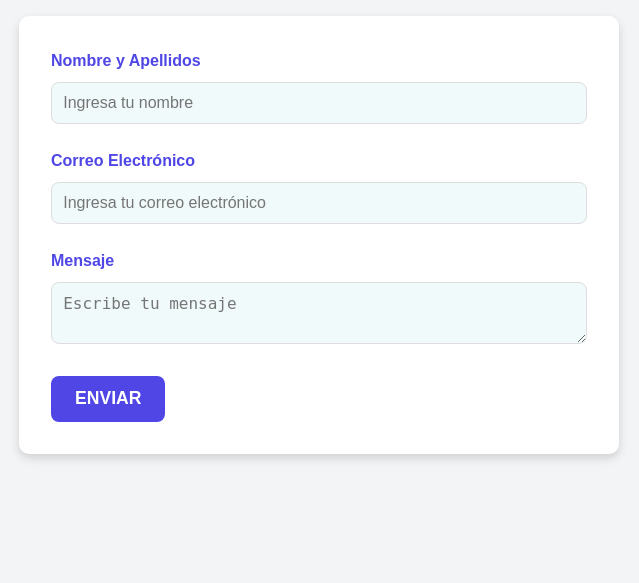
ContactForm Component › Mostrar errores de validación cuando los campos no son válidos
Step 1. Click the button "Enviar" → coordinates (108, 399), box x1=51 y1=376 x2=166 y2=422
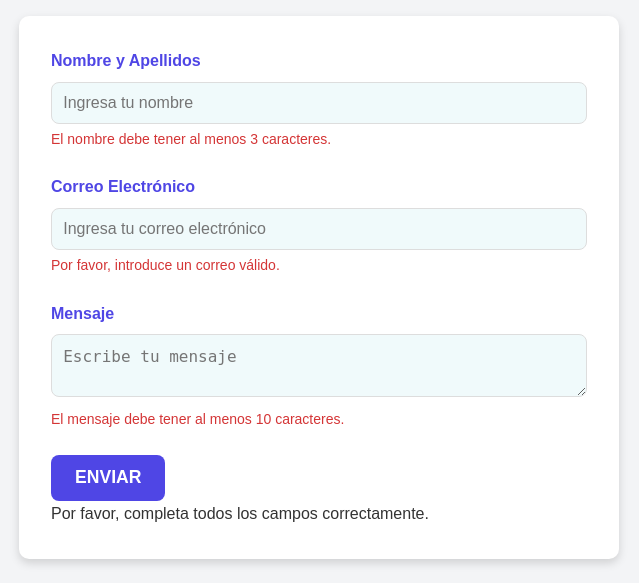
Expected: the text "Por favor, completa todos los campos correctamente." is shown, x1=51 y1=505 x2=429 y2=522
Expected: the text "El nombre debe tener al menos 3 caracteres." is shown, x1=51 y1=131 x2=331 y2=147
Expected: the text "Por favor, introduce un correo válido." is shown, x1=51 y1=257 x2=280 y2=273
